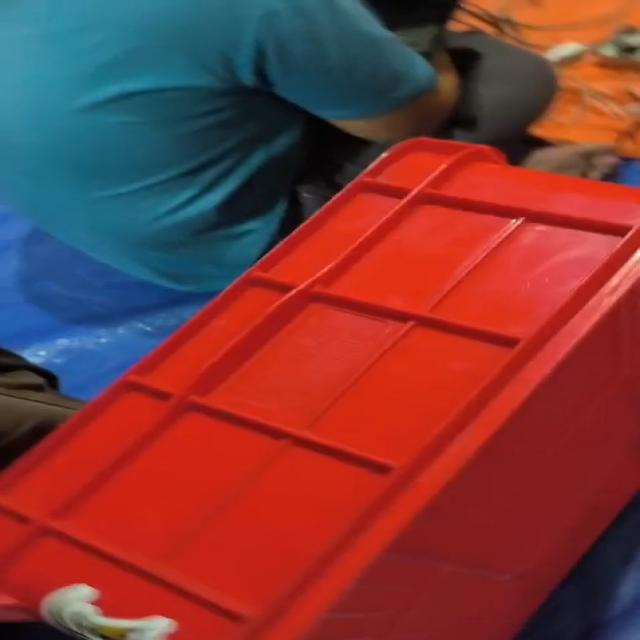red plastic box: (0, 137, 639, 639)
